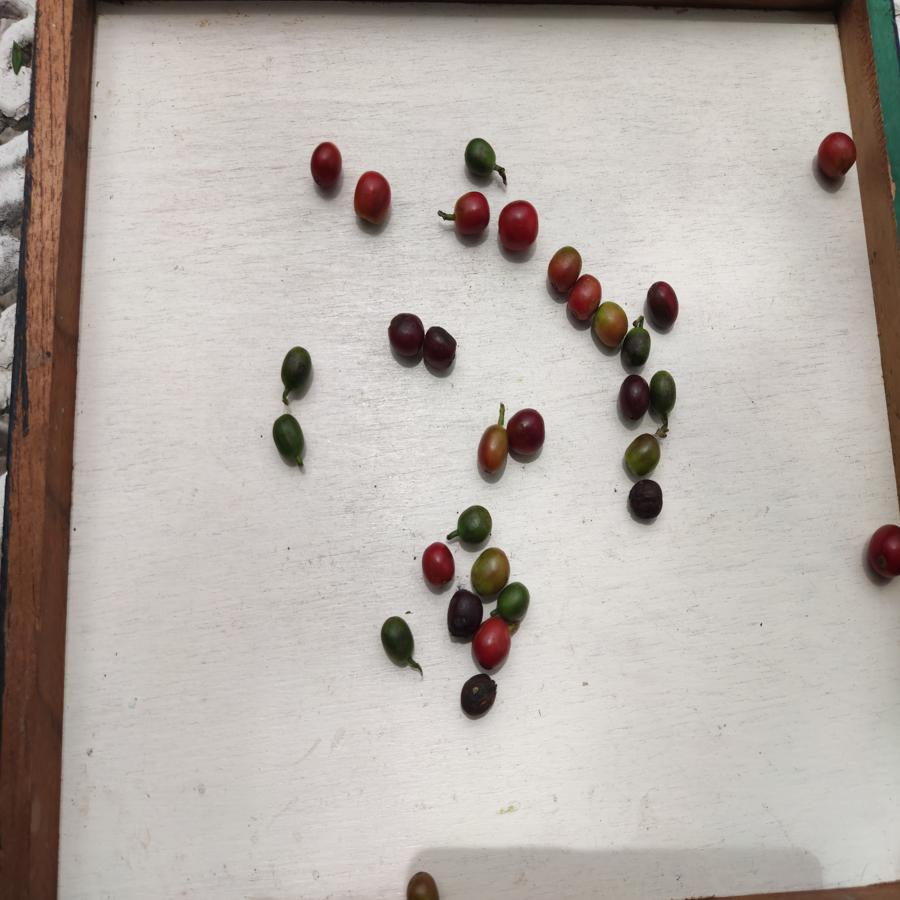Inmaduro: (378, 615, 417, 666), (268, 414, 305, 464), (456, 502, 495, 548), (498, 579, 532, 629), (462, 137, 499, 180), (279, 347, 312, 391), (650, 366, 677, 414), (621, 328, 653, 367)
Maduro: (350, 171, 393, 226), (496, 200, 541, 252), (815, 132, 859, 182), (865, 520, 900, 581), (449, 190, 493, 238), (475, 618, 510, 671), (569, 274, 604, 324), (418, 542, 455, 586), (311, 140, 342, 192)
Pinton: (469, 544, 512, 595), (548, 247, 582, 295), (625, 431, 661, 476), (478, 422, 508, 473), (595, 303, 625, 350)
Sobremaduro: (508, 407, 547, 457), (644, 278, 680, 331), (459, 672, 498, 720), (385, 312, 423, 361), (626, 477, 664, 525), (446, 589, 482, 638), (423, 326, 458, 371), (616, 374, 649, 421)
